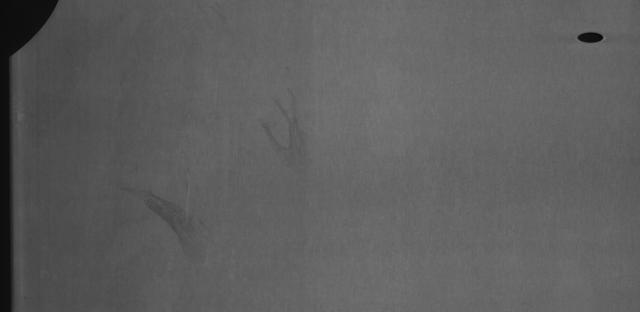crescent_gap: (10, 1, 66, 60)
punching_hole: (575, 30, 605, 44)
water_spot: (128, 168, 220, 266), (262, 93, 311, 170)
